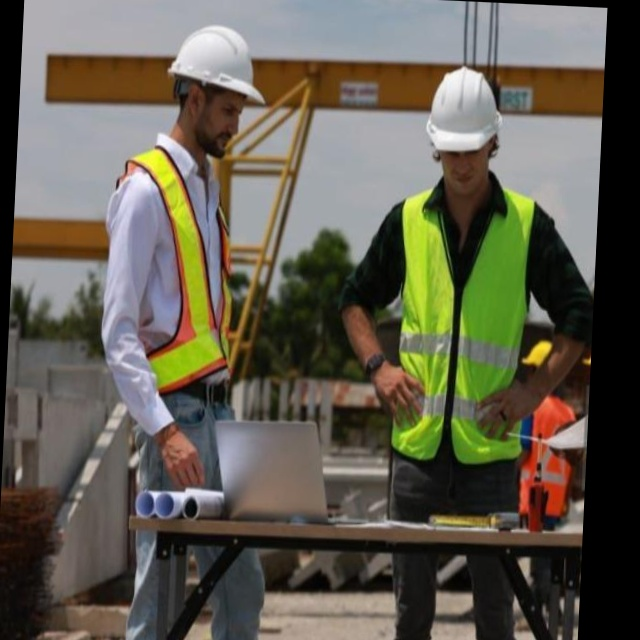Con_Casco: (164, 23, 269, 161), (424, 65, 506, 191)
Con_Chaleco: (378, 179, 543, 469), (95, 150, 245, 403)
